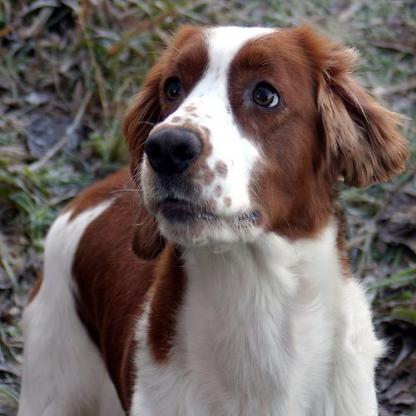Welsh_springer_spaniel: (13, 21, 408, 414)
